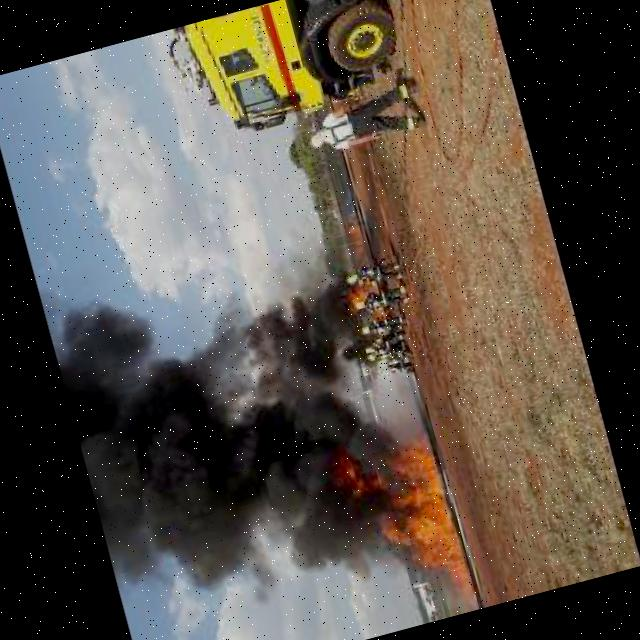fire: (363, 435, 474, 622), (328, 453, 367, 506), (339, 283, 377, 313), (341, 223, 367, 262)
